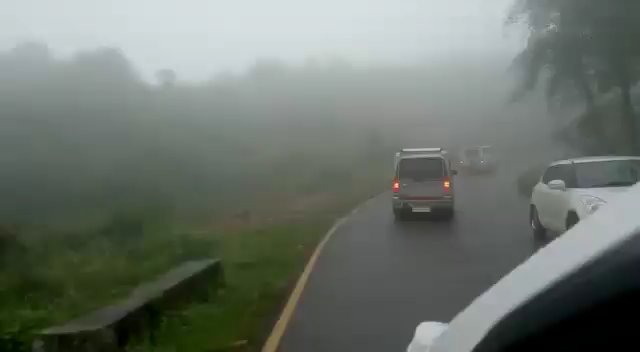car: (529, 157, 640, 239), (392, 155, 454, 220), (394, 147, 458, 193), (459, 145, 499, 175)
